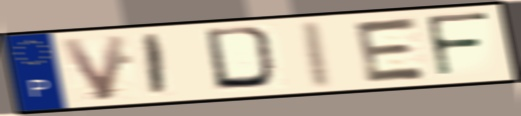D: (202, 25, 285, 93)
E: (352, 15, 431, 85)
F: (422, 11, 493, 80)
I: (303, 18, 336, 91), (143, 32, 168, 99)
V: (56, 32, 130, 103)
